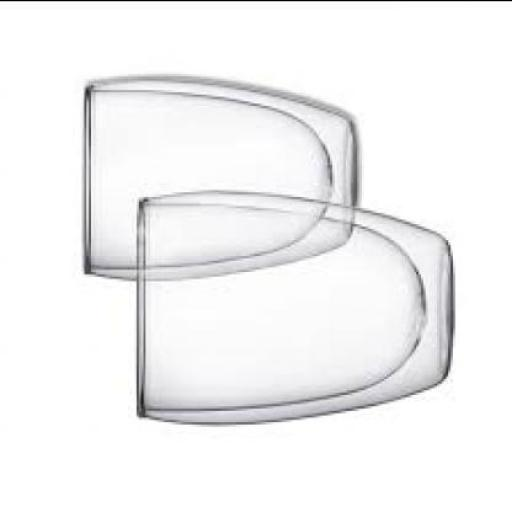glass: (134, 185, 451, 421), (82, 73, 357, 275)
